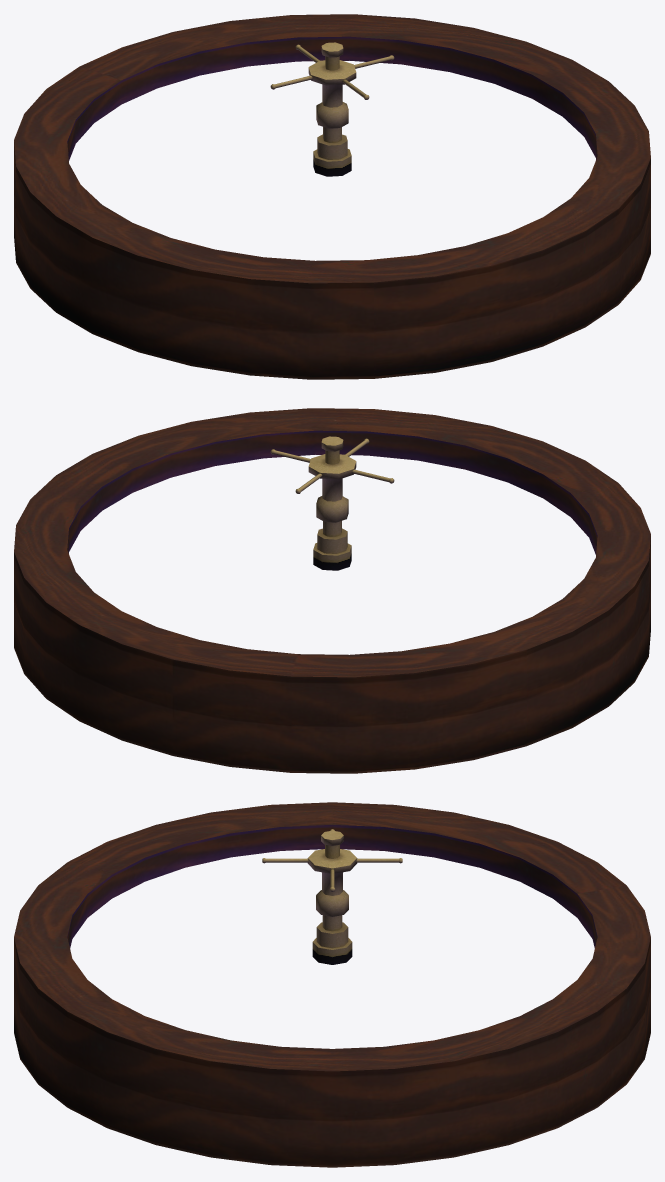
The model's file is roulette_wheel.glb.
3 renders of one model, top to bottom at view 1: azimuth 30°, elevation 25°; view 2: azimuth 150°, elevation 25°; view 3: azimuth 270°, elevation 25°, orthographic.
Visible parts, largest first — view 1: Wheel Baked; view 2: Wheel Baked; view 3: Wheel Baked.
Part boxes in pixels (box(x1,y1,x2,y2)): Wheel Baked: box(14, 14, 650, 379); Wheel Baked: box(14, 408, 650, 773); Wheel Baked: box(14, 802, 650, 1167).
Bounding box in the file's own units: 1.2 × 0.411 × 1.2.
2 materials, 2 textured.
